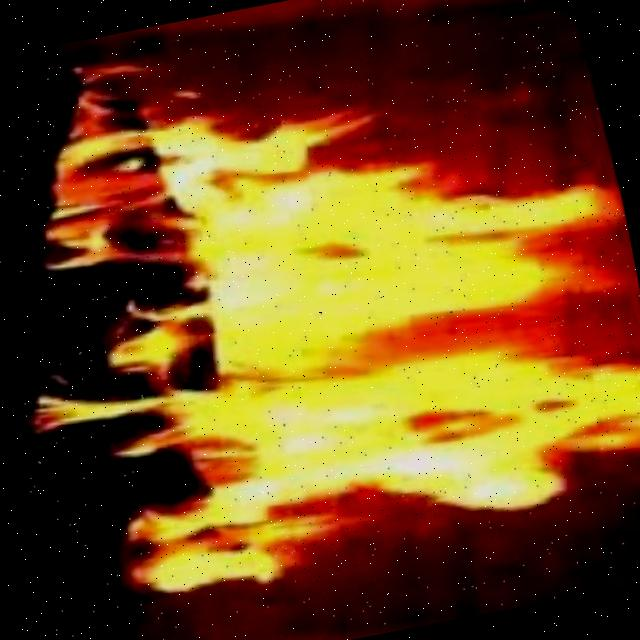fire: (86, 26, 640, 640)
